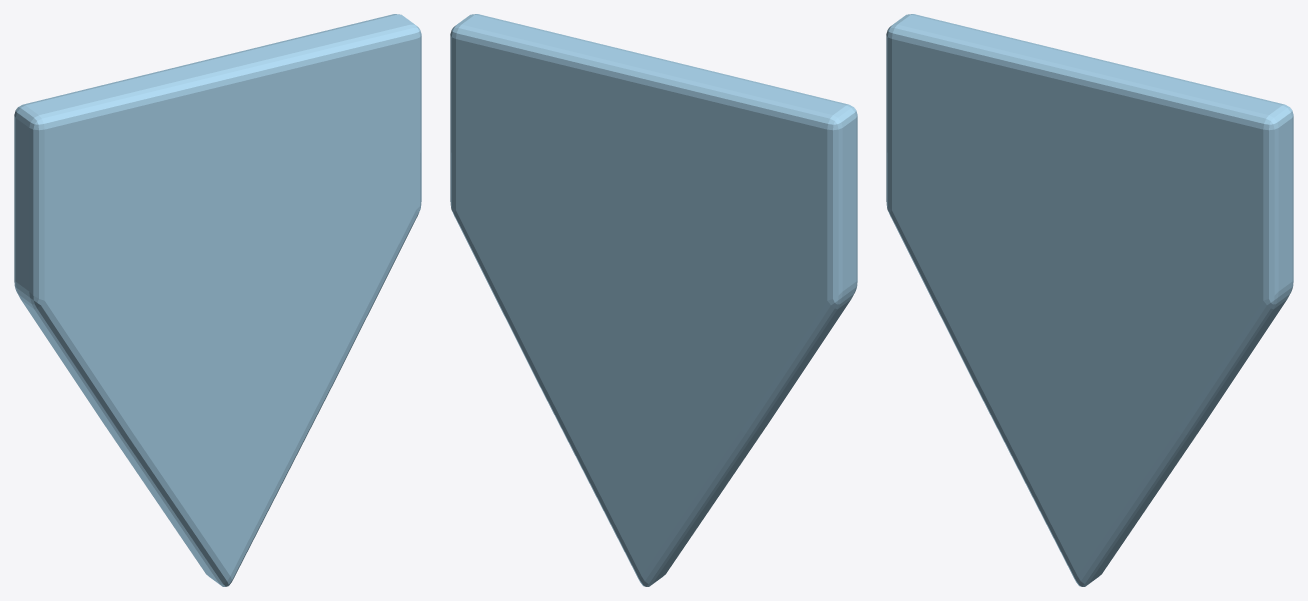
The model's file is shield.glb.
The picture shows the model from 3 angles, left to right: view 1: azimuth 30°, elevation 25°; view 2: azimuth 150°, elevation 25°; view 3: azimuth 330°, elevation 25°; orthographic projection.
Visible parts, largest first — view 1: Shield; view 2: Shield; view 3: Shield.
Part boxes in pixels (box(x1,y1,x2,y2)): Shield: box(14, 14, 421, 586); Shield: box(450, 14, 857, 586); Shield: box(886, 14, 1293, 586).
Size of the model in its own units: 2 by 2.52 by 0.22.
